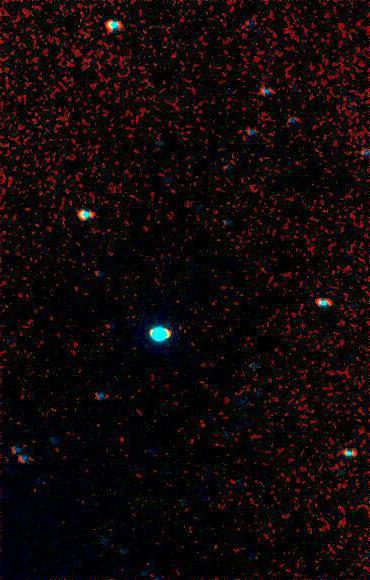star: (171, 319, 201, 349)
